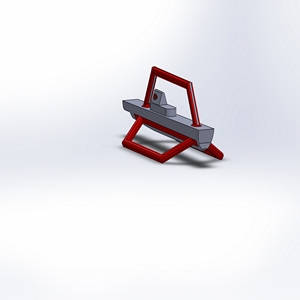submarine: (101, 62, 248, 191)
